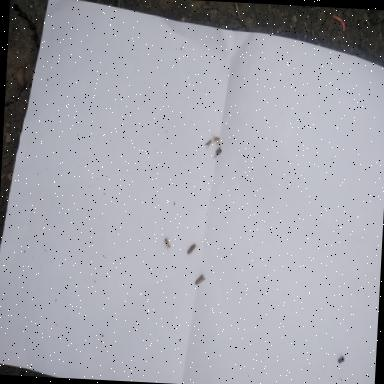pbw: (192, 273, 207, 285), (186, 242, 196, 255), (163, 237, 172, 248)
